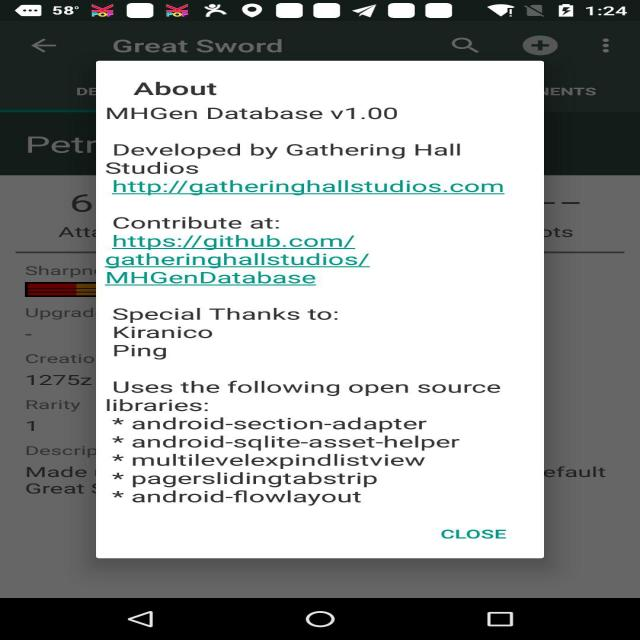button: (433, 524, 528, 551)
text: (101, 375, 508, 508), (99, 143, 517, 202), (101, 212, 392, 295), (101, 302, 370, 362), (99, 100, 448, 128), (96, 33, 318, 61), (129, 74, 241, 98)
